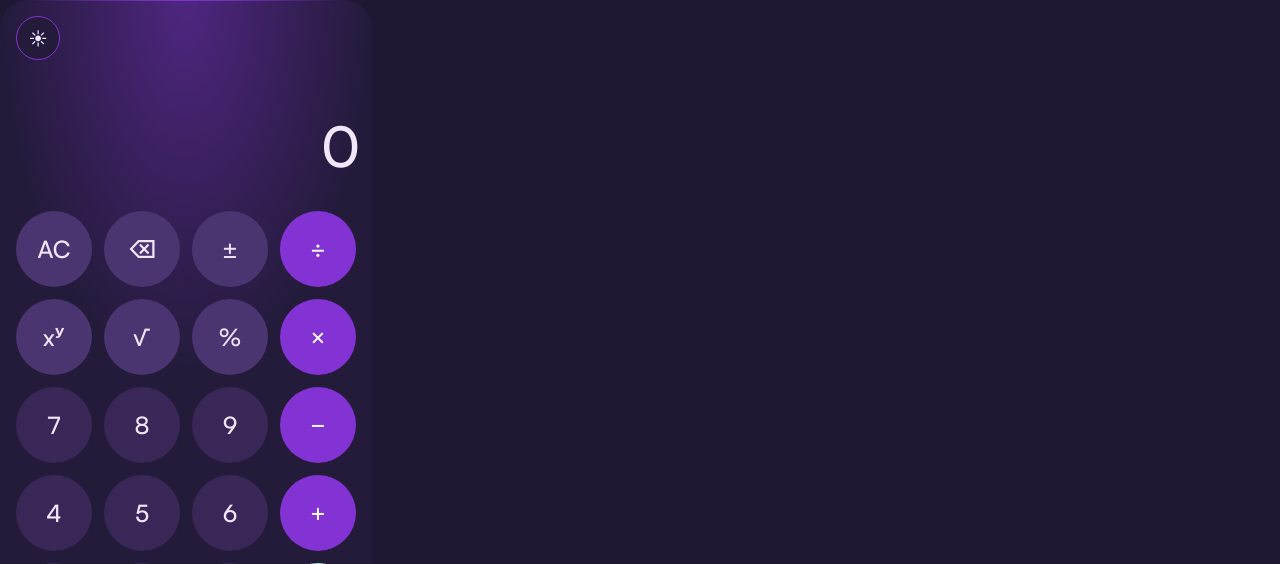
keeps typing after the theme toggle was clicked
The image size is (1280, 564).
Step 1. Click the button named "Switch to" → (38, 38), box [16, 16, 60, 60]
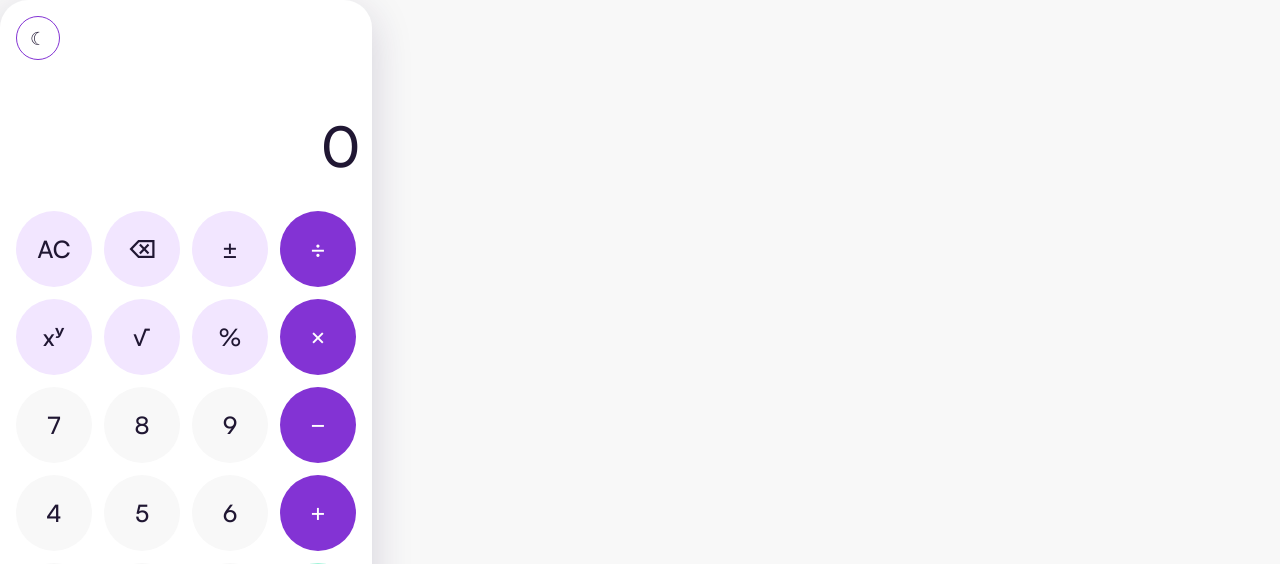
Step 2. Type keys "2+2{Enter}"
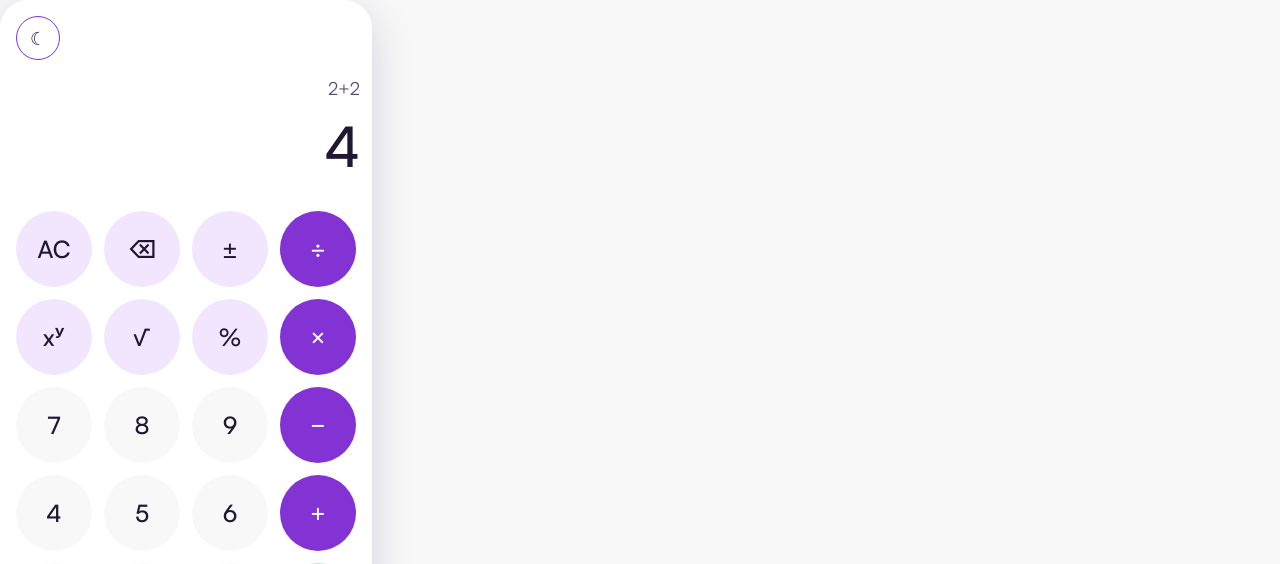
Check: the text "4" is shown, box [324, 110, 360, 180]
